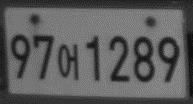1: (86, 35, 102, 81)
2: (108, 34, 129, 82)
7: (32, 34, 55, 80)
8: (132, 36, 155, 82)
9: (157, 36, 180, 82), (10, 33, 31, 81)
어: (57, 43, 80, 81)
